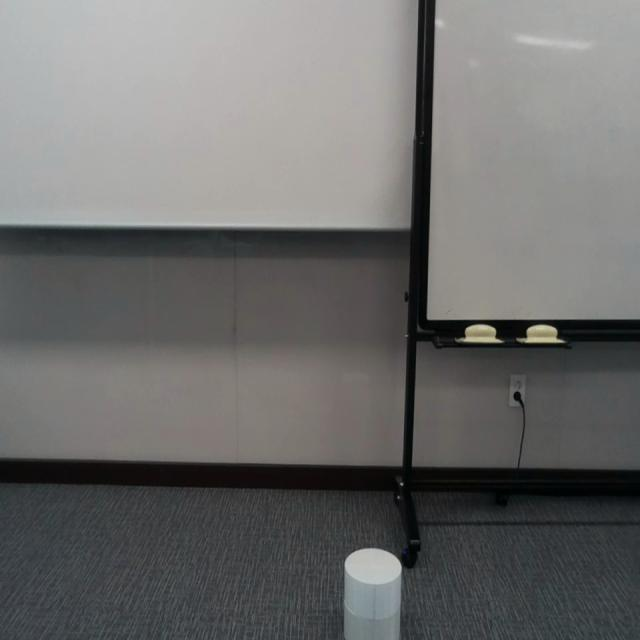cylinder: (344, 548, 402, 640)
